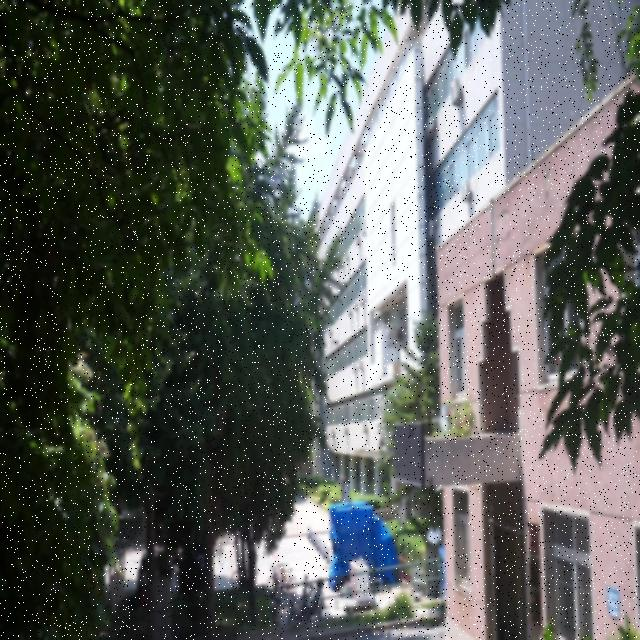UAV: (331, 339, 340, 347)
